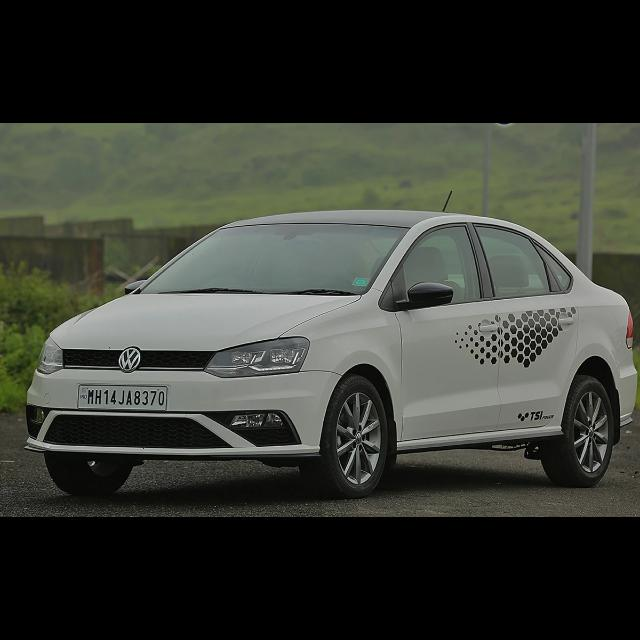vehicles: (20, 206, 630, 502)
